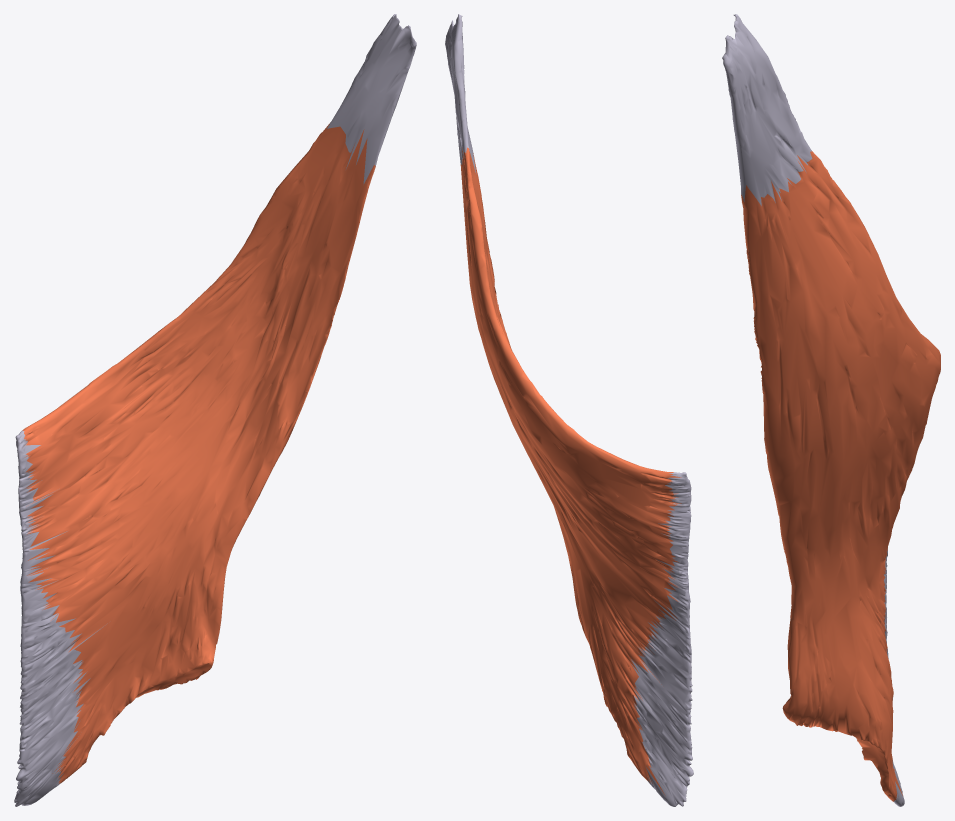
File: Latissimus_dorsi_left.glb
3 renders of one model, left to right at view 1: azimuth 30°, elevation 25°; view 2: azimuth 150°, elevation 25°; view 3: azimuth 270°, elevation 25°, orthographic. The views are drawn at different scales.
Visible parts, largest first — view 1: Latissimus_dorsi_muscle.l.001_Generated_Mesh_From_X3D.398; view 2: Latissimus_dorsi_muscle.l.001_Generated_Mesh_From_X3D.398; view 3: Latissimus_dorsi_muscle.l.001_Generated_Mesh_From_X3D.398.
Part boxes in pixels (x1,y1,x2,y2): Latissimus_dorsi_muscle.l.001_Generated_Mesh_From_X3D.398: (14,14,416,806); Latissimus_dorsi_muscle.l.001_Generated_Mesh_From_X3D.398: (445,14,693,806); Latissimus_dorsi_muscle.l.001_Generated_Mesh_From_X3D.398: (722,14,940,806).
Size of the model in its own units: 0.1869 by 0.4042 by 0.0818.
